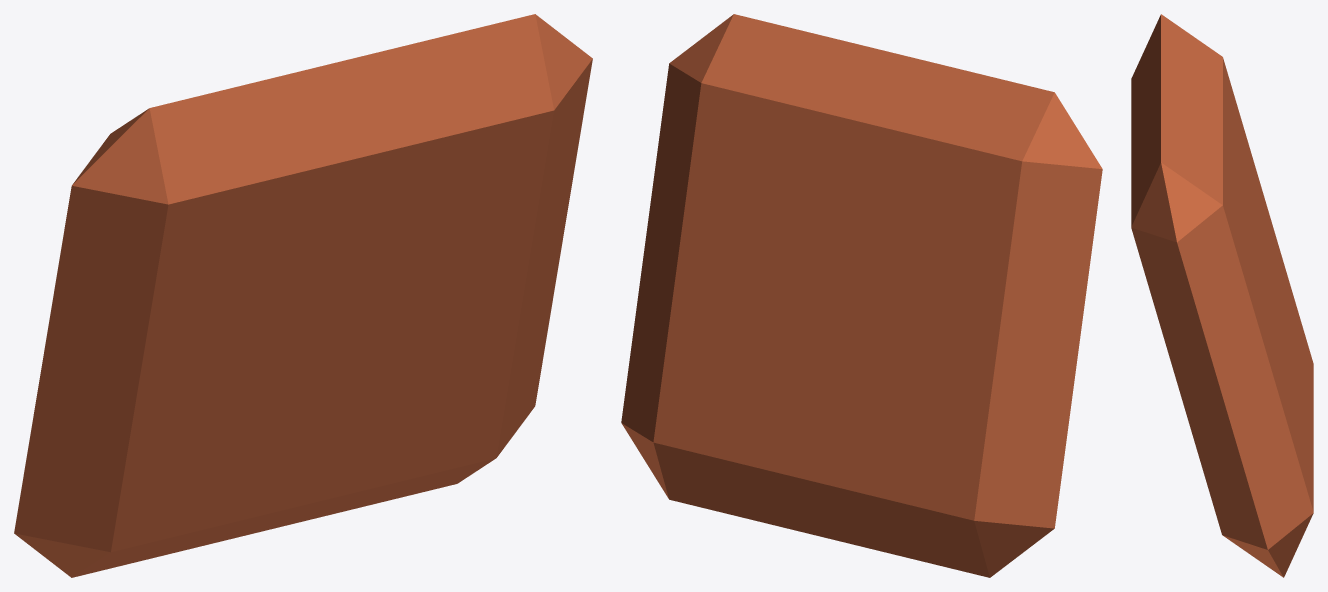
Rendered from pillow.glb.
3 renders of one model, left to right at view 1: azimuth 30°, elevation 25°; view 2: azimuth 150°, elevation 25°; view 3: azimuth 270°, elevation 25°, orthographic. The views are drawn at different scales.
Parts seen in each view (by area): view 1: pillow; view 2: pillow; view 3: pillow.
Part boxes in pixels (<box>): pillow: <box>14,14,592,577</box>; pillow: <box>621,14,1102,577</box>; pillow: <box>1131,14,1313,577</box>.
Size of the model in its own units: 0.46 by 0.4443 by 0.177.
